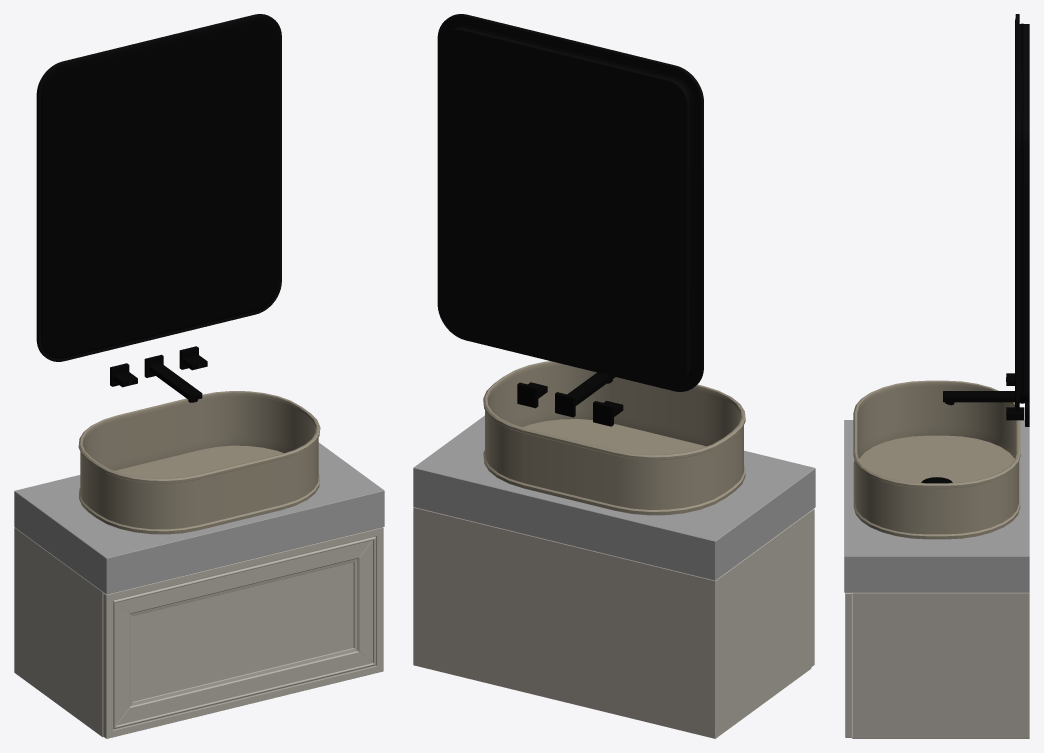
The model's file is fbx_tumba.FBX.
The picture shows the model from 3 angles, left to right: view 1: azimuth 30°, elevation 25°; view 2: azimuth 150°, elevation 25°; view 3: azimuth 270°, elevation 25°; orthographic projection. The views are drawn at different scales.
Visible parts, largest first — view 1: Box001, miror, Rectangle019, CEZARES_PRIZMA-BLI3; view 2: Box001, miror, Rectangle019, CEZARES_PRIZMA-BLI3; view 3: Box001, Rectangle019, miror, CEZARES_PRIZMA-BLI3.
Boxes of the visible parts, box(x1,y1,x2,y2) form: Box001: box(14, 442, 384, 738); miror: box(36, 14, 281, 361); Rectangle019: box(78, 391, 320, 534); CEZARES_PRIZMA-BLI3: box(110, 346, 207, 402); Box001: box(413, 415, 815, 738); miror: box(437, 14, 703, 391); Rectangle019: box(483, 361, 745, 515); CEZARES_PRIZMA-BLI3: box(517, 372, 623, 426); Box001: box(844, 420, 1029, 738); Rectangle019: box(853, 380, 1020, 539); miror: box(1015, 14, 1029, 413); CEZARES_PRIZMA-BLI3: box(943, 373, 1029, 426).
Bounding box in the file's own units: 800 × 1660 × 460.
